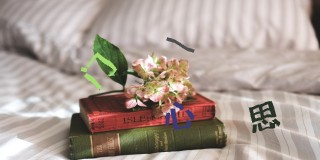一: (165, 35, 195, 53)
心: (165, 102, 195, 129)
思: (248, 100, 280, 132)
门: (79, 53, 117, 90)
